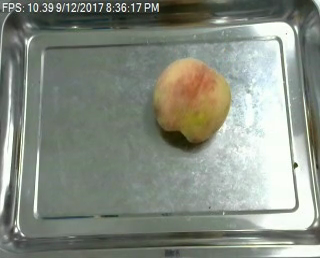Peach: (152, 57, 231, 142)
